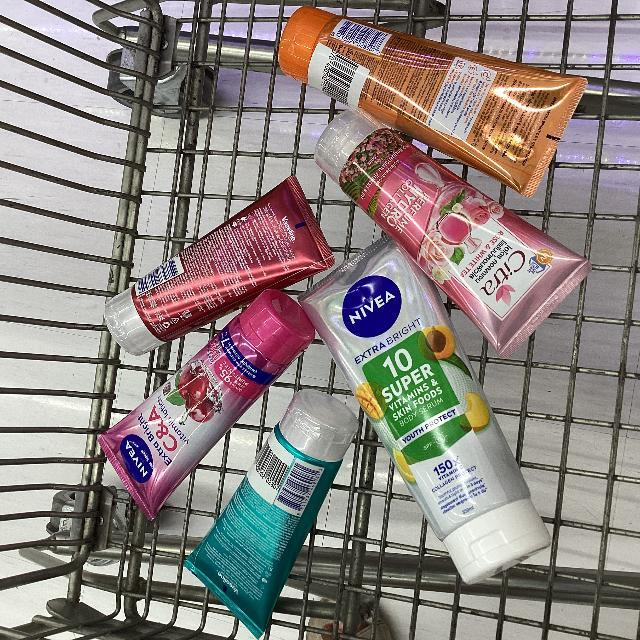Squeeze Tube: (44, 0, 640, 640)
